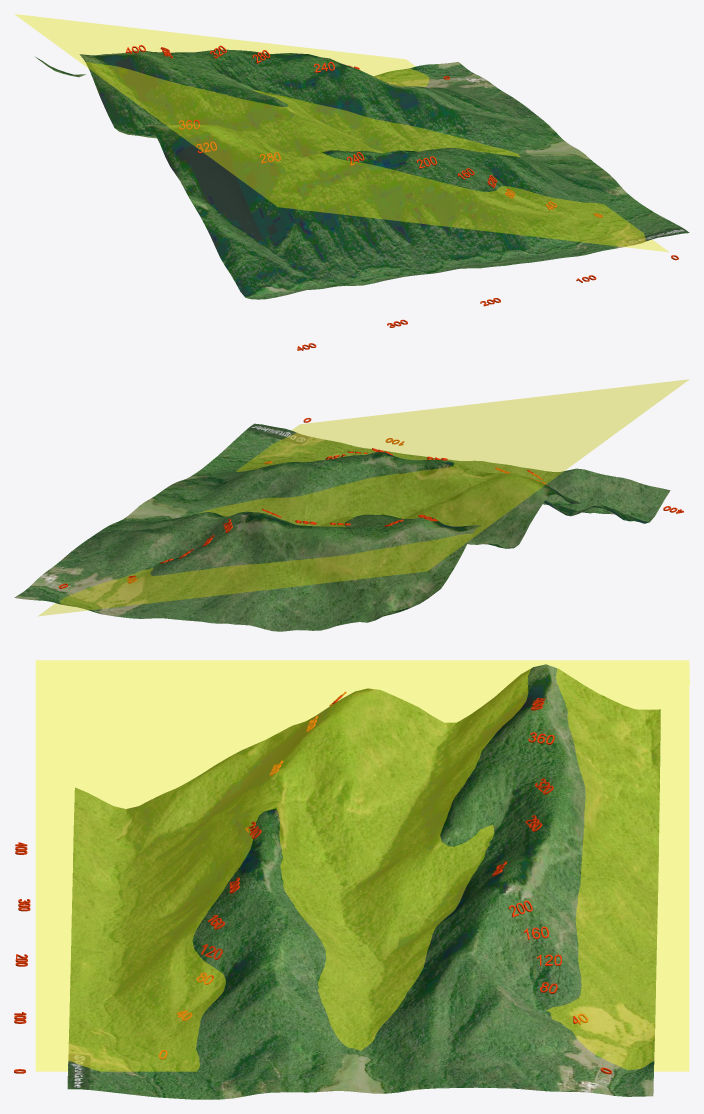
File: RioRastro2.gltf
3 renders of one model, top to bottom at view 1: azimuth 30°, elevation 25°; view 2: azimuth 150°, elevation 25°; view 3: azimuth 270°, elevation 25°, orthographic. The views are drawn at different scales.
Parts seen in each view (by area): view 1: root; view 2: root; view 3: root.
Part boxes in pixels (box(x1,y1,x2,y2)): root: box(15, 14, 689, 350); root: box(14, 379, 688, 631); root: box(14, 660, 689, 1099).
Size of the model in its own units: 2041 by 668 by 2243.
4 materials, 1 textured.
